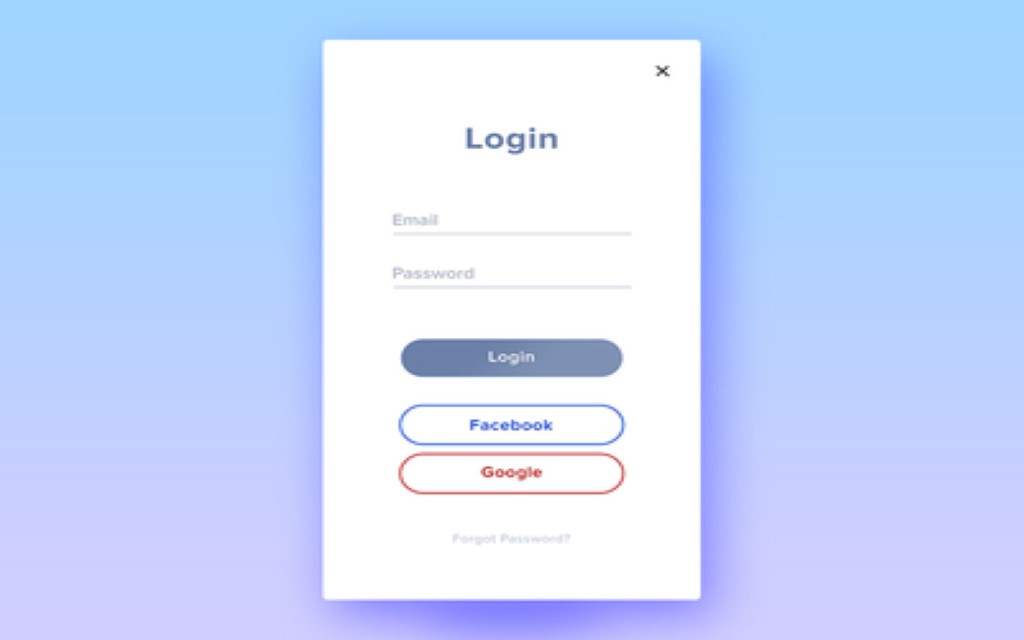button: (397, 455, 627, 496), (400, 403, 626, 444), (401, 336, 622, 376)
label_Login: (404, 337, 623, 380), (486, 349, 538, 367)
label_email: (391, 213, 443, 229)
label_password: (395, 269, 475, 282)
textbox: (389, 207, 633, 233), (394, 263, 633, 287)
